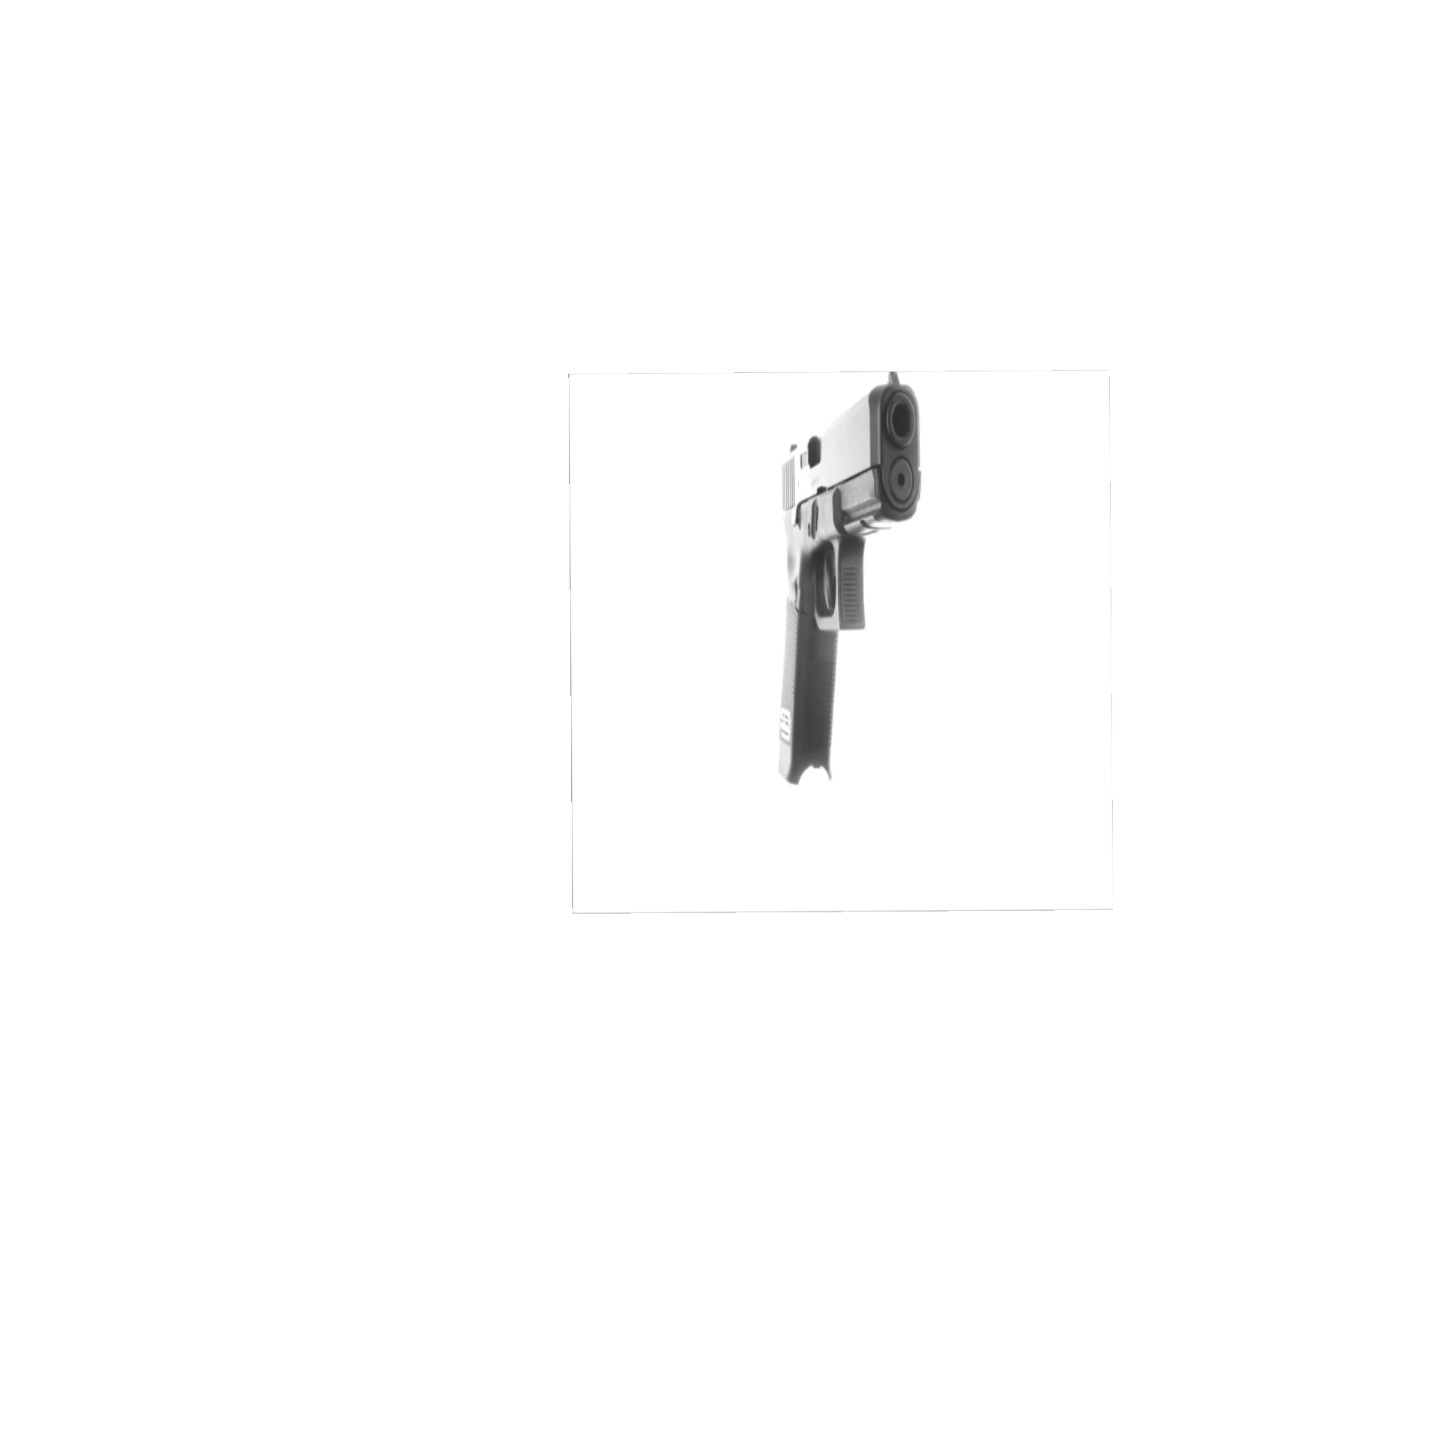gun: (764, 366, 926, 787)
